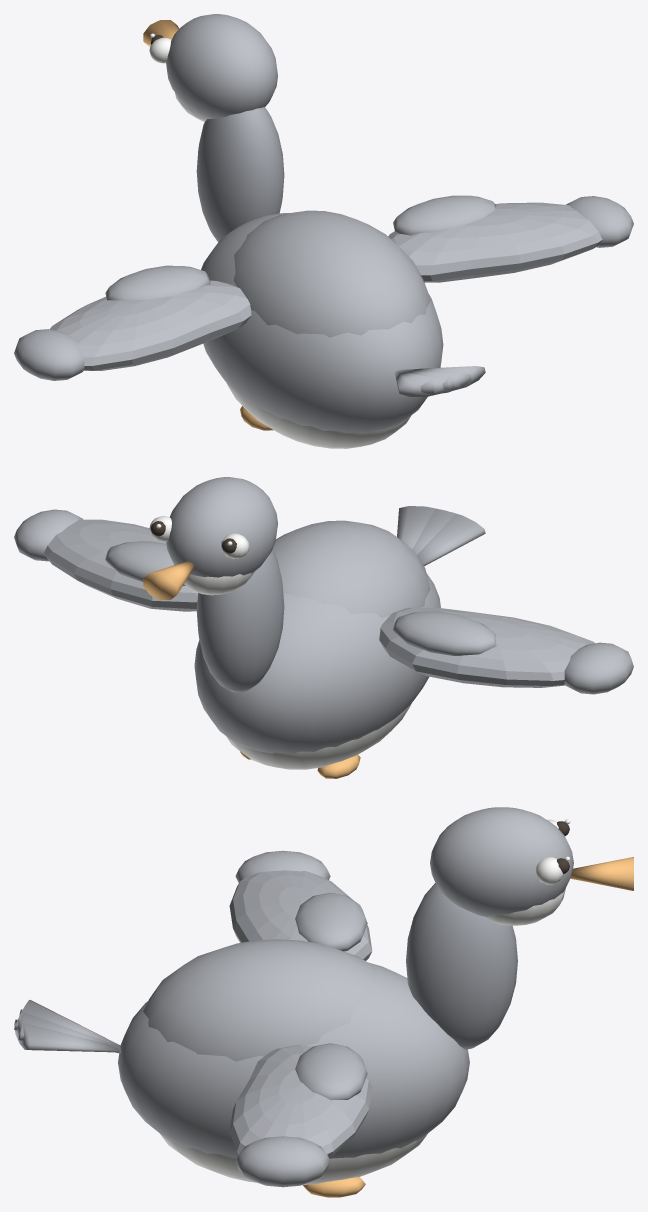
File: Pet_WildGoose.fbx
3 views of the same model, one above another, from view 1: azimuth 30°, elevation 25°; view 2: azimuth 150°, elevation 25°; view 3: azimuth 270°, elevation 25° (orthographic). The views are drawn at different scales.
Parts seen in each view (by area): view 1: Pet_WildGoose, Fluff, WingR, WingL, Head, Neck, WingL_Tip, WingR_Cover, WingL_Cover, Belly, WingR_Tip, Tail0 (+1 smaller); view 2: Pet_WildGoose, Fluff, WingL, Head, Neck, WingR, WingL_Cover, WingL_Tip, Belly, WingR_Cover, WingR_Tip, Tail0 (+6 smaller); view 3: Pet_WildGoose, Fluff, Neck, Head, WingR, WingL, WingR_Tip, WingL_Cover, WingR_Cover, Belly, Tail2, WingL_Tip (+6 smaller).
Part boxes in pixels (bbox=[...]): Pet_WildGoose: bbox=[201, 213, 443, 433]; Fluff: bbox=[233, 210, 430, 337]; WingR: bbox=[388, 202, 602, 282]; WingL: bbox=[50, 280, 251, 370]; Head: bbox=[166, 14, 277, 119]; Neck: bbox=[196, 107, 284, 241]; WingL_Tip: bbox=[14, 329, 84, 380]; WingR_Cover: bbox=[393, 195, 496, 235]; WingL_Cover: bbox=[105, 265, 210, 301]; Belly: bbox=[226, 382, 411, 448]; WingR_Tip: bbox=[566, 196, 633, 247]; Tail0: bbox=[394, 371, 453, 396]; Pet_WildGoose: bbox=[194, 573, 440, 754]; Fluff: bbox=[272, 520, 430, 617]; WingL: bbox=[379, 607, 594, 687]; Head: bbox=[166, 477, 277, 577]; Neck: bbox=[196, 549, 284, 692]; WingR: bbox=[44, 519, 197, 611]; WingL_Cover: bbox=[393, 611, 496, 655]; WingL_Tip: bbox=[564, 642, 633, 694]; Belly: bbox=[226, 703, 411, 769]; WingR_Cover: bbox=[105, 541, 185, 585]; WingR_Tip: bbox=[14, 509, 83, 561]; Tail0: bbox=[417, 512, 485, 566]; Pet_WildGoose: bbox=[118, 962, 469, 1158]; Fluff: bbox=[143, 939, 377, 1061]; Neck: bbox=[406, 883, 517, 1049]; Head: bbox=[430, 807, 573, 916]; WingR: bbox=[229, 1045, 372, 1157]; WingL: bbox=[229, 870, 372, 960]; WingR_Tip: bbox=[235, 1136, 330, 1187]; WingL_Cover: bbox=[295, 892, 367, 951]; WingR_Cover: bbox=[295, 1043, 367, 1099]; Belly: bbox=[159, 1133, 427, 1185]; Tail2: bbox=[14, 1019, 119, 1052]; WingL_Tip: bbox=[235, 850, 330, 883].
Size of the model in its own units: 1.88 by 1 by 1.55.
